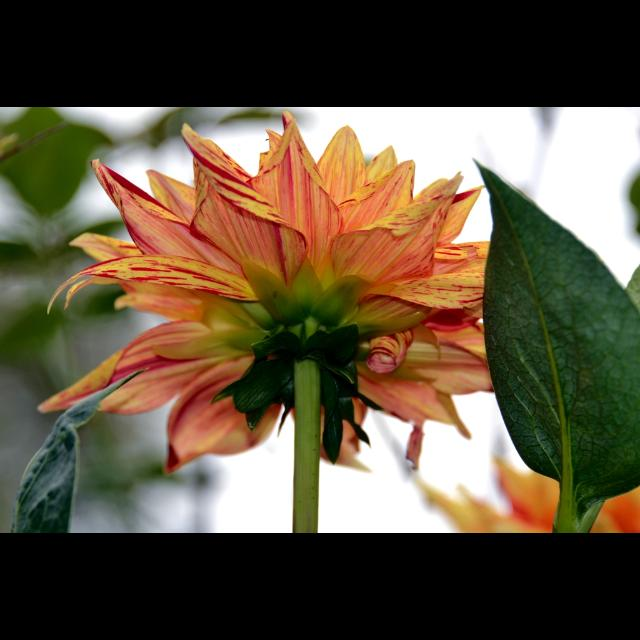Flower: (33, 107, 495, 485)
